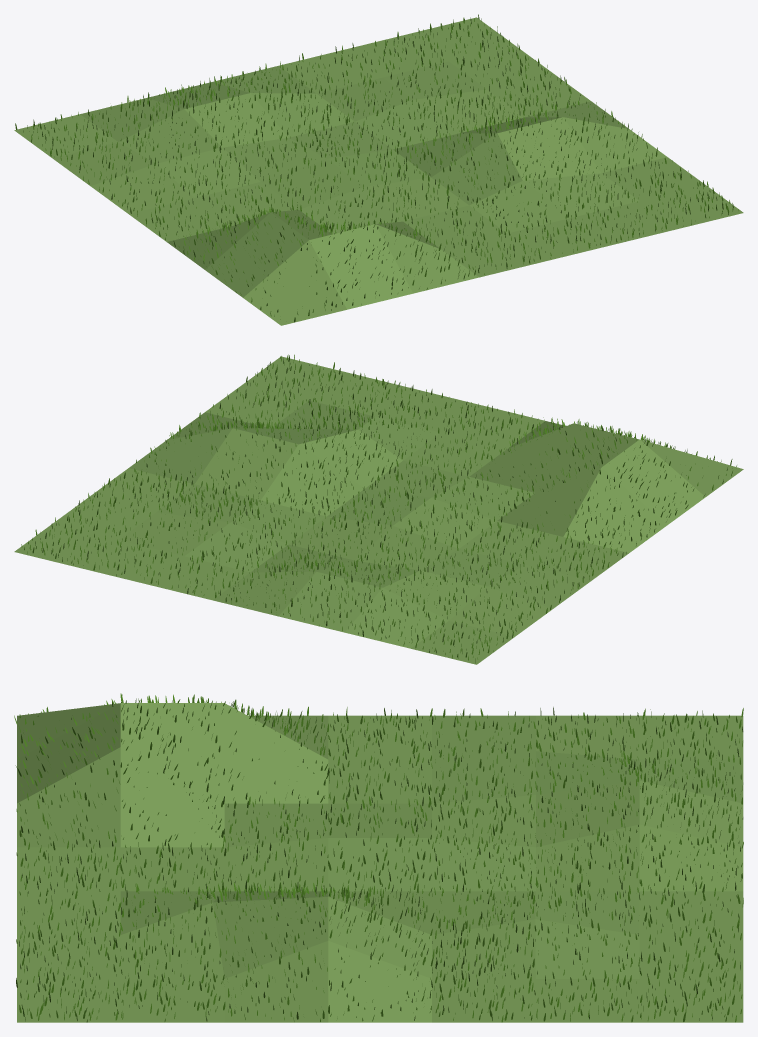
File: grass.fbx
The picture shows the model from 3 angles, top to bottom: view 1: azimuth 30°, elevation 25°; view 2: azimuth 150°, elevation 25°; view 3: azimuth 270°, elevation 25°; orthographic projection. The views are drawn at different scales.
Visible parts, largest first — view 1: Plane; view 2: Plane; view 3: Plane.
Boxes of the visible parts, x1=… form: Plane: x1=14, y1=17, x2=743, y2=325; Plane: x1=14, y1=356, x2=743, y2=664; Plane: x1=17, y1=703, x2=743, y2=1022.
Size of the model in its own units: 3059 by 307 by 3060.
